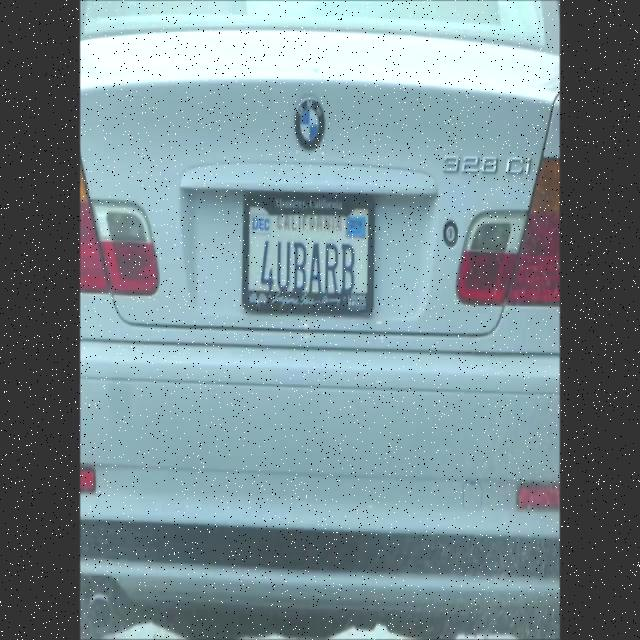licenseplate: (242, 201, 372, 326)
